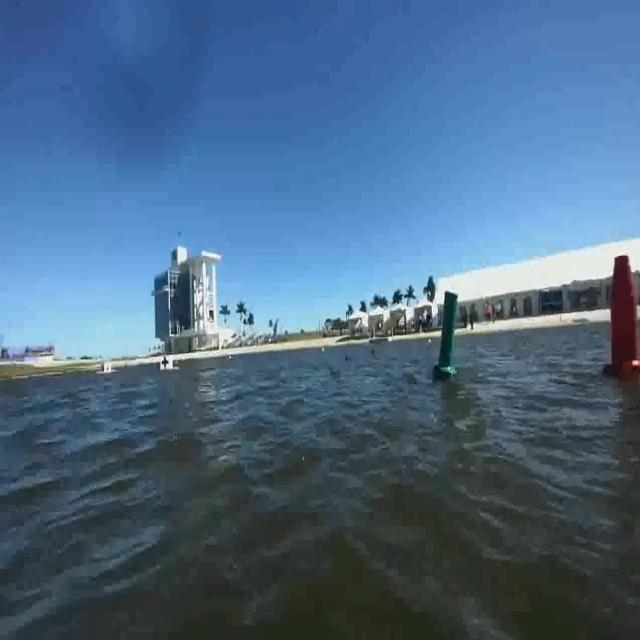green-column-buoy: (436, 290, 462, 380)
red-column-buoy: (606, 250, 640, 383)
